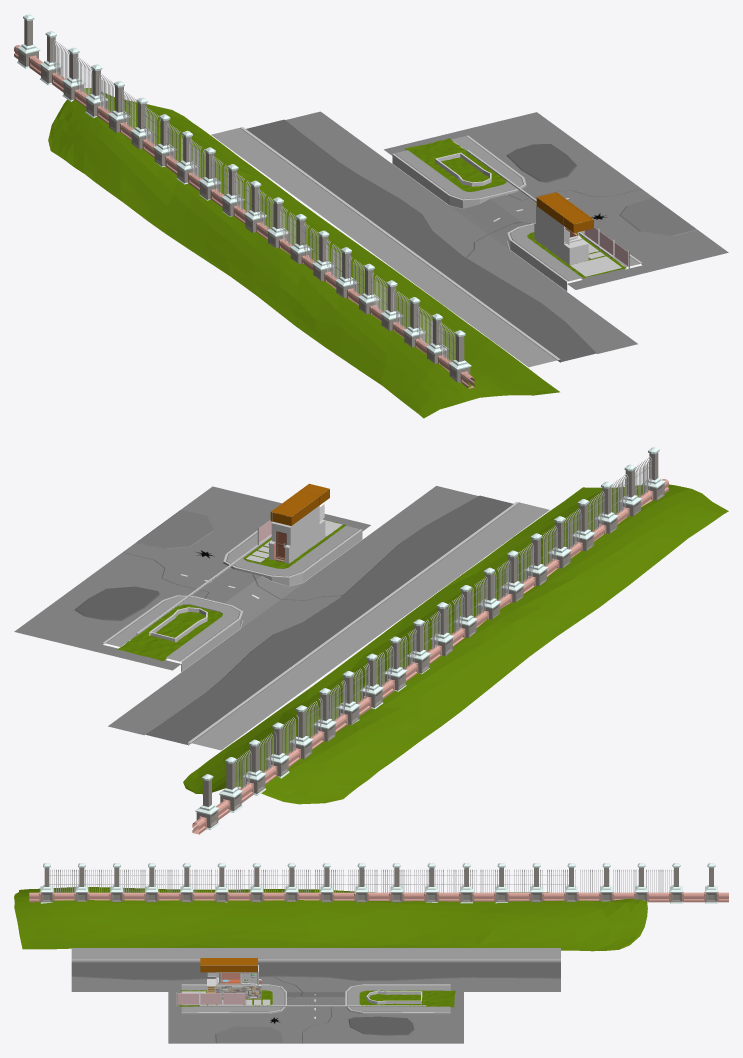
The picture shows the model from 3 angles, top to bottom: view 1: azimuth 30°, elevation 25°; view 2: azimuth 150°, elevation 25°; view 3: azimuth 270°, elevation 25°; orthographic projection. The views are drawn at different scales.
Visible parts, largest first — view 1: Grass, ParkingLot, StreetAccent, StreetSidewalk, L_FenceBars, L_FenceMainSupports, LotSidewalk, L_FenceSupportCaps, L_FenceWall, LotAccent_Dark, LotAccent_Light, TopPanels (+2 smaller); view 2: Grass, ParkingLot, StreetAccent, StreetSidewalk, L_FenceBars, L_FenceMainSupports, LotSidewalk, L_FenceSupportCaps, L_FenceWall, LotAccent_Dark, LotAccent_Light, MainCabin (+1 smaller); view 3: Grass, ParkingLot, StreetAccent, StreetSidewalk, L_FenceBars, L_FenceMainSupports, L_FenceWall, LotSidewalk, L_FenceSupportCaps, LotAccent_Dark, LotAccent_Light, TopPanels (+6 smaller).
Part boxes in pixels (left/top/right/bottom): Grass: left=48, top=88, right=626, bottom=418; ParkingLot: left=285, top=111, right=728, bottom=353; StreetAccent: left=246, top=119, right=596, bottom=361; StreetSidewalk: left=211, top=127, right=560, bottom=367; L_FenceBars: left=53, top=40, right=455, bottom=362; L_FenceMainSupports: left=18, top=19, right=470, bottom=382; LotSidewalk: left=392, top=135, right=642, bottom=291; L_FenceSupportCaps: left=17, top=14, right=471, bottom=382; L_FenceWall: left=14, top=45, right=474, bottom=388; LotAccent_Dark: left=506, top=144, right=577, bottom=182; LotAccent_Light: left=619, top=197, right=697, bottom=236; TopPanels: left=536, top=192, right=593, bottom=232; Grass: left=117, top=484, right=728, bottom=804; ParkingLot: left=14, top=486, right=478, bottom=735; StreetAccent: left=145, top=495, right=513, bottom=744; StreetSidewalk: left=188, top=502, right=549, bottom=750; L_FenceBars: left=235, top=456, right=651, bottom=789; L_FenceMainSupports: left=196, top=452, right=664, bottom=828; LotSidewalk: left=103, top=526, right=362, bottom=671; L_FenceSupportCaps: left=195, top=447, right=665, bottom=830; L_FenceWall: left=192, top=479, right=668, bottom=834; LotAccent_Dark: left=74, top=586, right=159, bottom=620; LotAccent_Light: left=135, top=510, right=214, bottom=549; MainCabin: left=269, top=504, right=324, bottom=563; Grass: left=14, top=887, right=647, bottom=1007; ParkingLot: left=71, top=976, right=560, bottom=1043; StreetAccent: left=71, top=962, right=560, bottom=981; StreetSidewalk: left=71, top=948, right=560, bottom=962; L_FenceBars: left=50, top=869, right=673, bottom=892; L_FenceMainSupports: left=41, top=867, right=717, bottom=902; L_FenceWall: left=29, top=891, right=728, bottom=902; LotSidewalk: left=181, top=984, right=450, bottom=1014; L_FenceSupportCaps: left=40, top=863, right=717, bottom=903; LotAccent_Dark: left=348, top=1016, right=414, bottom=1035; LotAccent_Light: left=215, top=1026, right=283, bottom=1043; TopPanels: left=200, top=958, right=257, bottom=972.
Bounding box in the file's own units: 12312 × 2107 × 24531.
